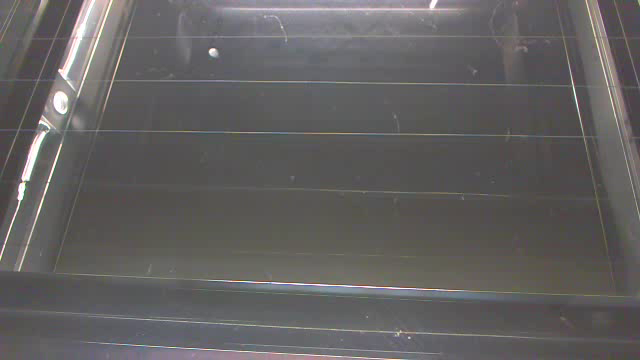alpha: (428, 1, 439, 7), (209, 48, 217, 55)
